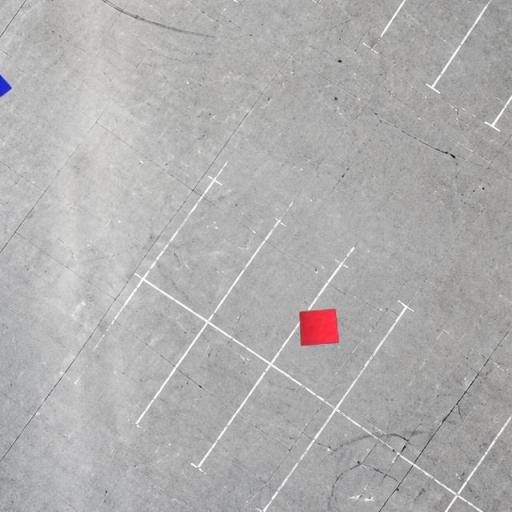RED_SQUARE: (299, 309, 339, 346)
